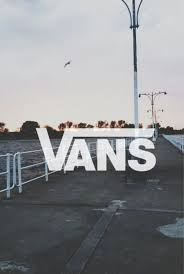vans: (35, 128, 155, 172)
